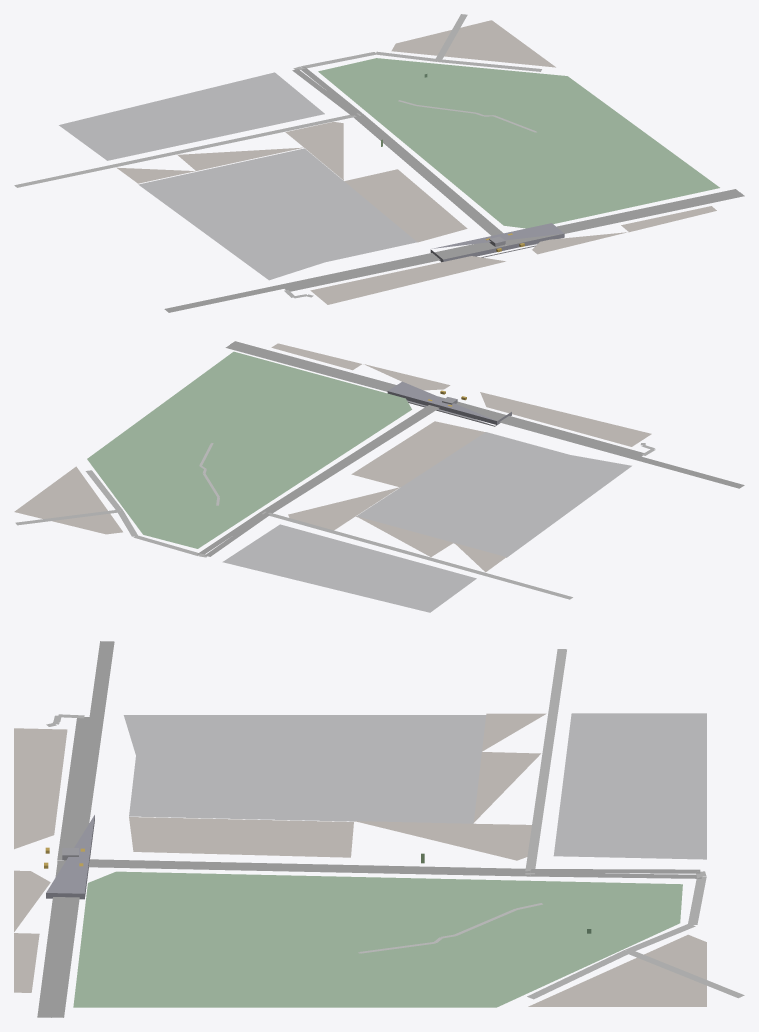
3 renders of one model, top to bottom at view 1: azimuth 30°, elevation 25°; view 2: azimuth 150°, elevation 25°; view 3: azimuth 270°, elevation 25°, orthographic. The views are drawn at different scales.
Bounding box in the file's own units: 639 × 17.65 × 527.
